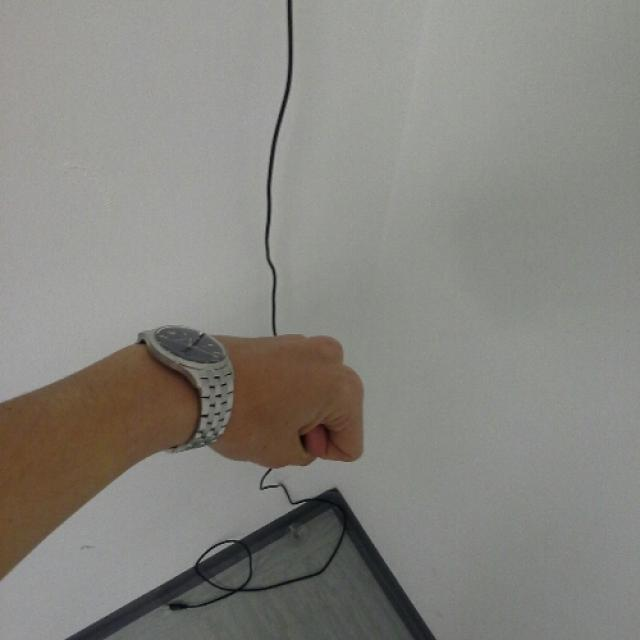rock: (244, 331, 366, 474)
